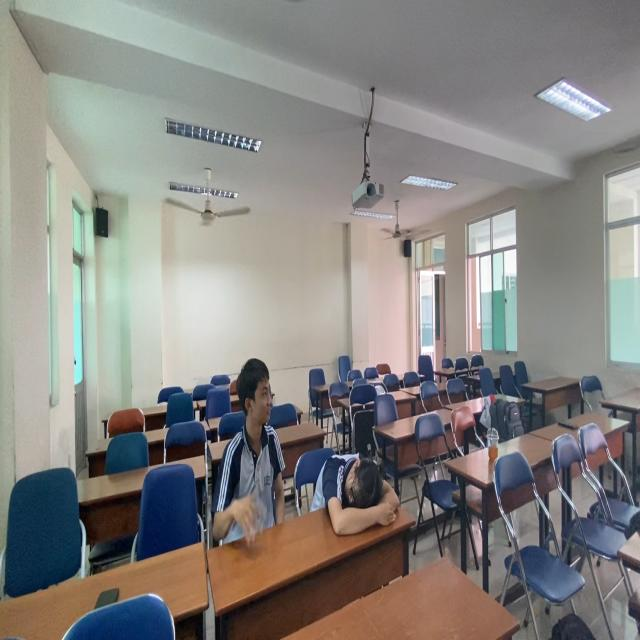sleep: (314, 451, 400, 541)
